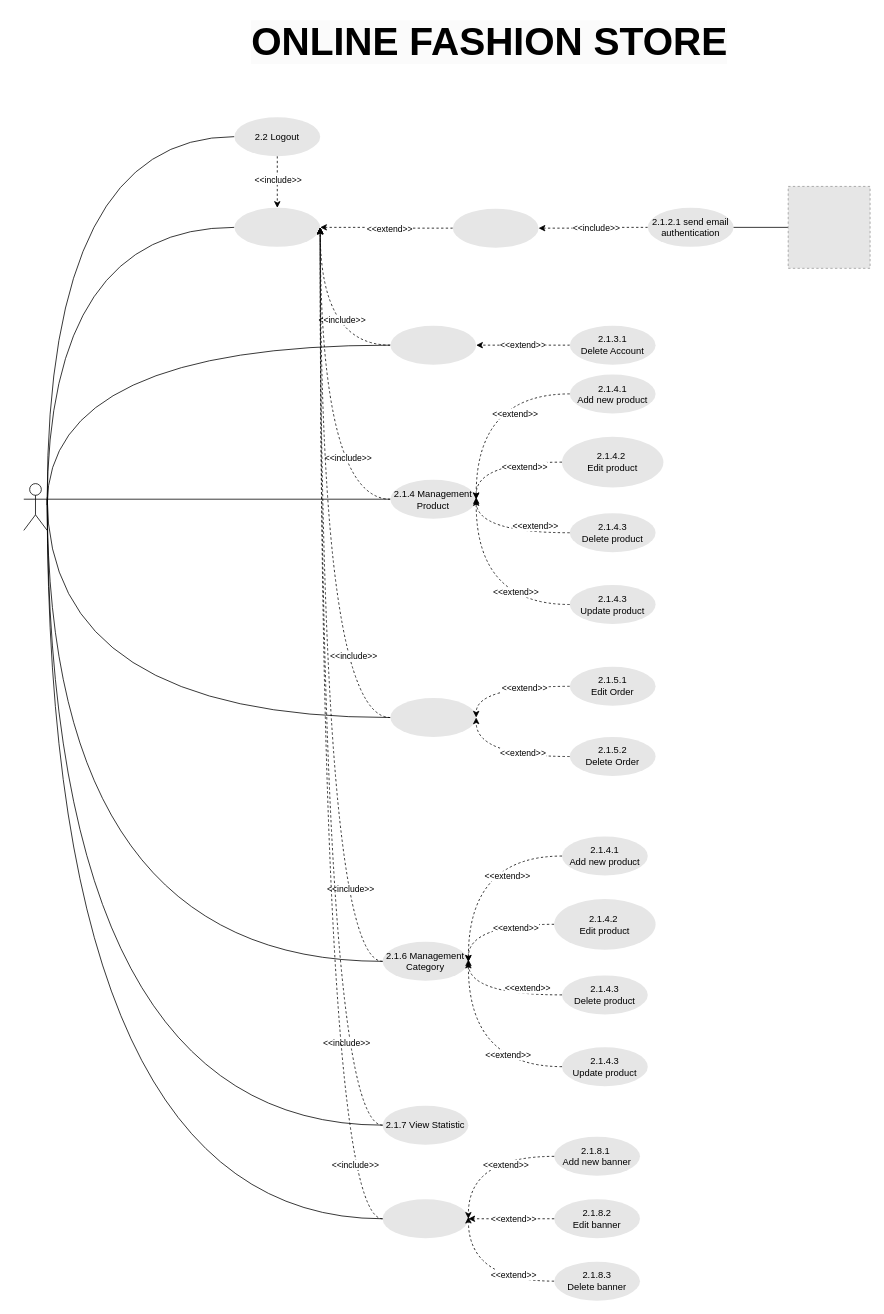
Image size: 884x1314. Some labels were removed from this diagram. Grey dashed boxes stand in for pictures. Each missing label, with the centre of its shape:
2.1 Login: [277,226]
2.1.2 Forgot Password: [495,227]
2.1.3 Management Account: [433,344]
2.1.5 Management Orders: [433,717]
2.1.8 Management Banners: [425,1218]
Admin: [35,506]
